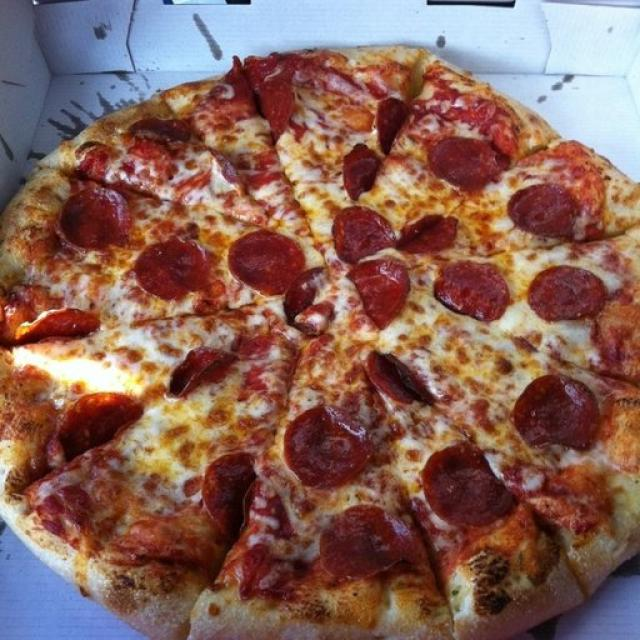Pepperoni: (426, 443, 512, 526), (517, 371, 593, 454), (325, 499, 406, 571), (292, 407, 363, 477), (525, 266, 605, 322), (63, 394, 140, 451), (231, 231, 302, 289), (510, 182, 582, 238), (205, 457, 261, 528), (430, 131, 501, 186), (136, 238, 202, 296), (331, 203, 391, 259), (370, 352, 430, 408), (64, 186, 119, 245), (353, 264, 406, 322), (443, 266, 500, 314), (173, 343, 221, 395), (31, 308, 93, 344), (399, 220, 457, 250), (346, 140, 376, 194), (378, 96, 402, 149)
Pizza: (0, 48, 640, 640)
